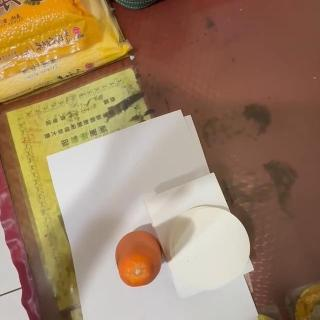carrot: (112, 230, 166, 288)
